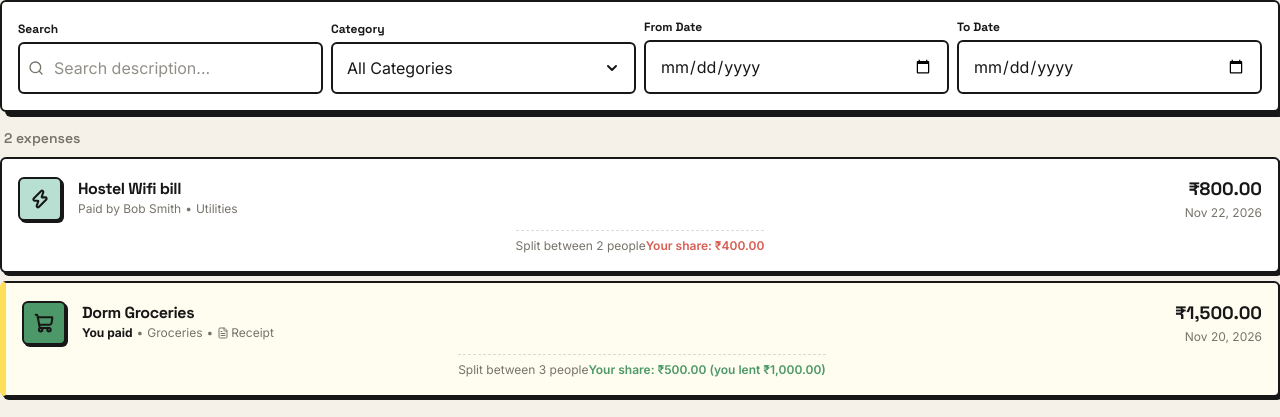
Test: Expense Components › ExpenseList Component › filters expenses by search text
Expected: the heading "Dorm Groceries" is shown, 82,302 -> 194,323
Expected: the heading "Hostel Wifi bill" is shown, 78,178 -> 181,199
Type "wifi" into the field with placeholder "Search description...".
click(170, 68); type("wifi")  # box 18,42 -> 323,94
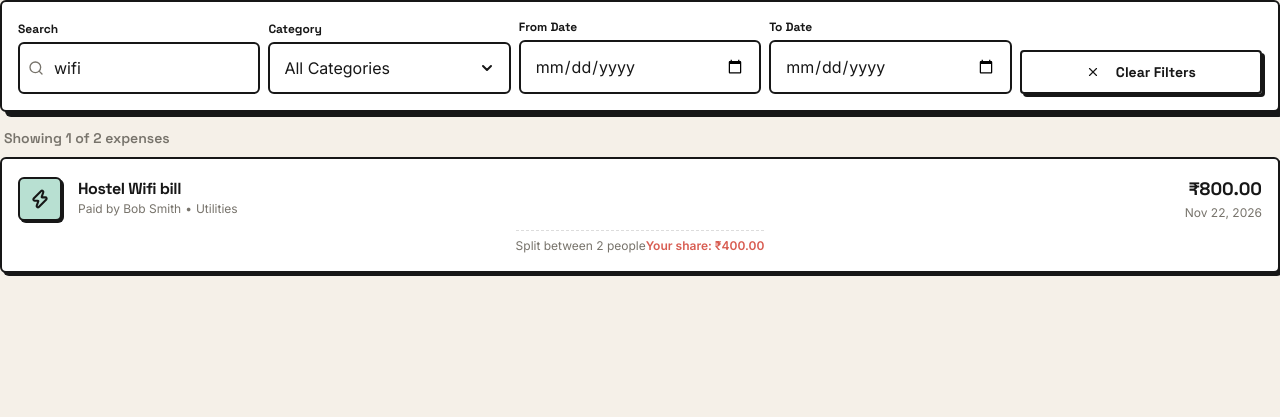
Expected: the heading "Hostel Wifi bill" is shown, 78,178 -> 181,199
Result: the button "Dorm Groceries" is gone
